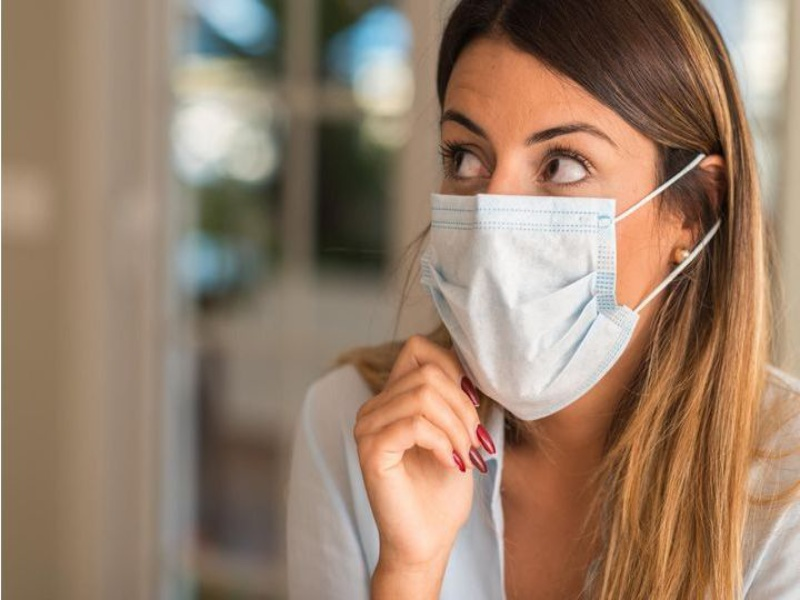ManaoArotava: (408, 20, 681, 444)
